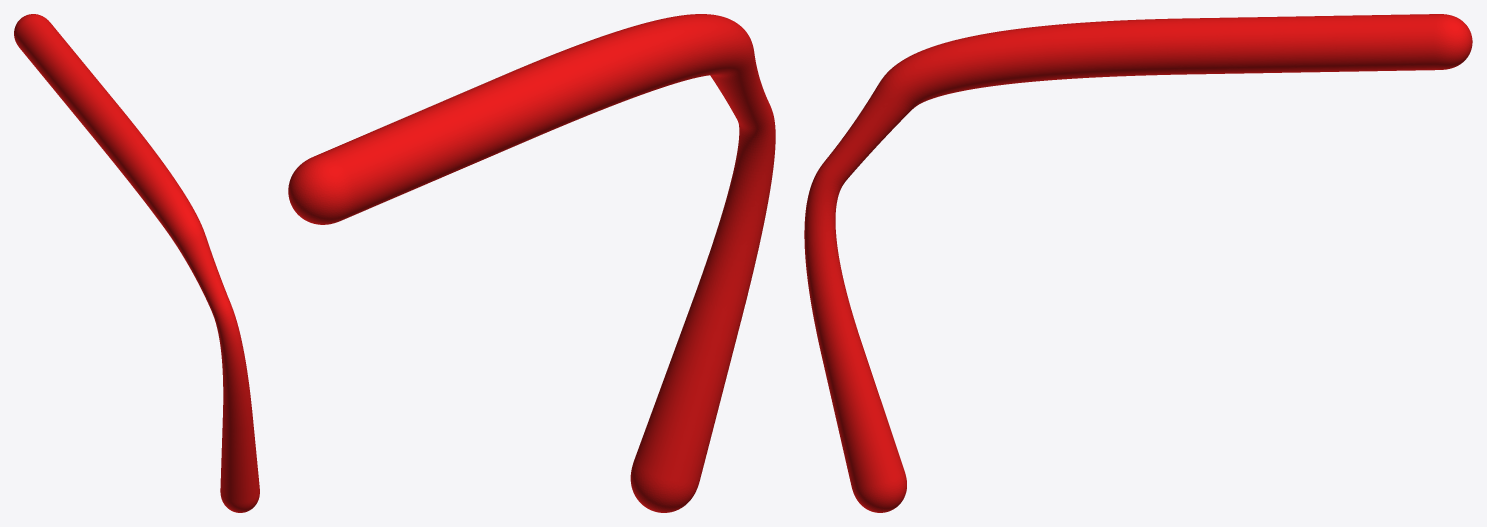
The model's file is wrinkle2.obj.
3 views of the same model, side by side, from view 1: azimuth 30°, elevation 25°; view 2: azimuth 150°, elevation 25°; view 3: azimuth 270°, elevation 25° (orthographic). The views are drawn at different scales.
Visible parts, largest first — view 1: model_6; view 2: model_6; view 3: model_6.
Part boxes in pixels (x1,y1,x2,y2): model_6: [14, 14, 259, 512]; model_6: [288, 14, 775, 512]; model_6: [804, 14, 1472, 512].
Bounding box in the file's own units: 56.56 × 250 × 309.
1 material, 1 textured.
